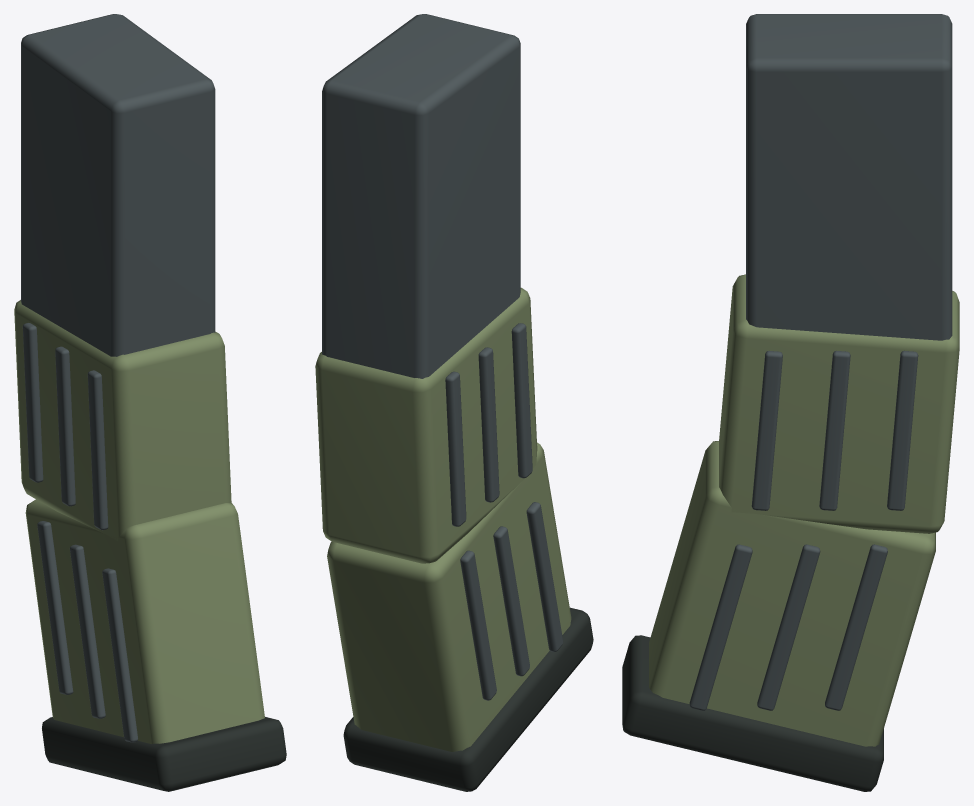
Rendered from Ranger.magazine.glb.
3 renders of one model, left to right at view 1: azimuth 30°, elevation 25°; view 2: azimuth 150°, elevation 25°; view 3: azimuth 270°, elevation 25°, orthographic. The views are drawn at different scales.
Parts seen in each view (by area): view 1: Equipment_Ranger_Magazine; view 2: Equipment_Ranger_Magazine; view 3: Equipment_Ranger_Magazine.
Part boxes in pixels (<box>): Equipment_Ranger_Magazine: <box>14,14,286,791</box>; Equipment_Ranger_Magazine: <box>315,14,593,791</box>; Equipment_Ranger_Magazine: <box>622,14,959,791</box>.
Bounding box in the file's own units: 0.043 × 0.2255 × 0.0948.
